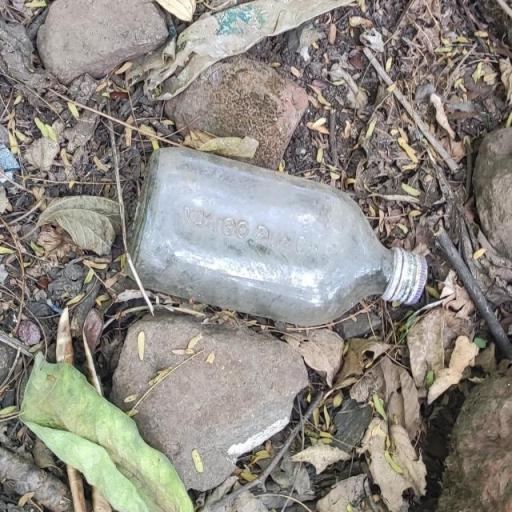glass: (113, 145, 402, 343)
